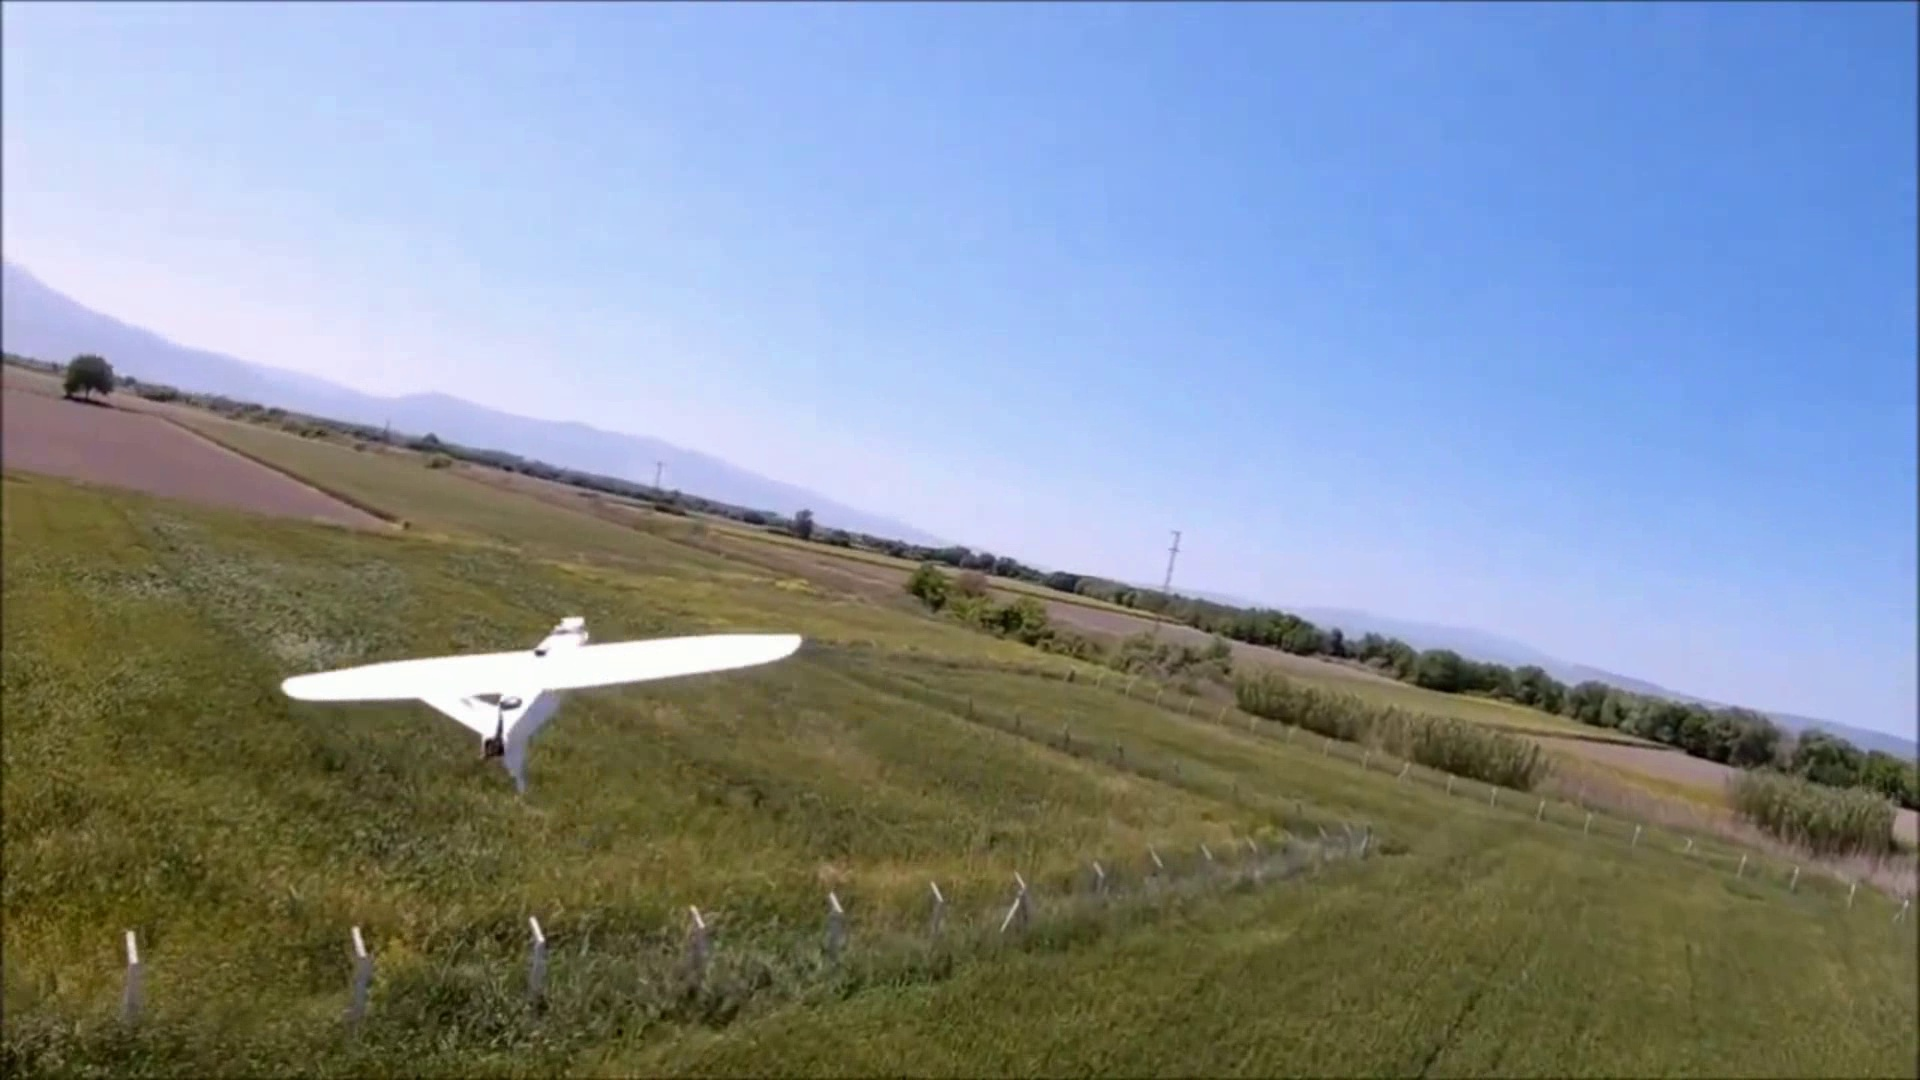airplane: (280, 615, 804, 798)
